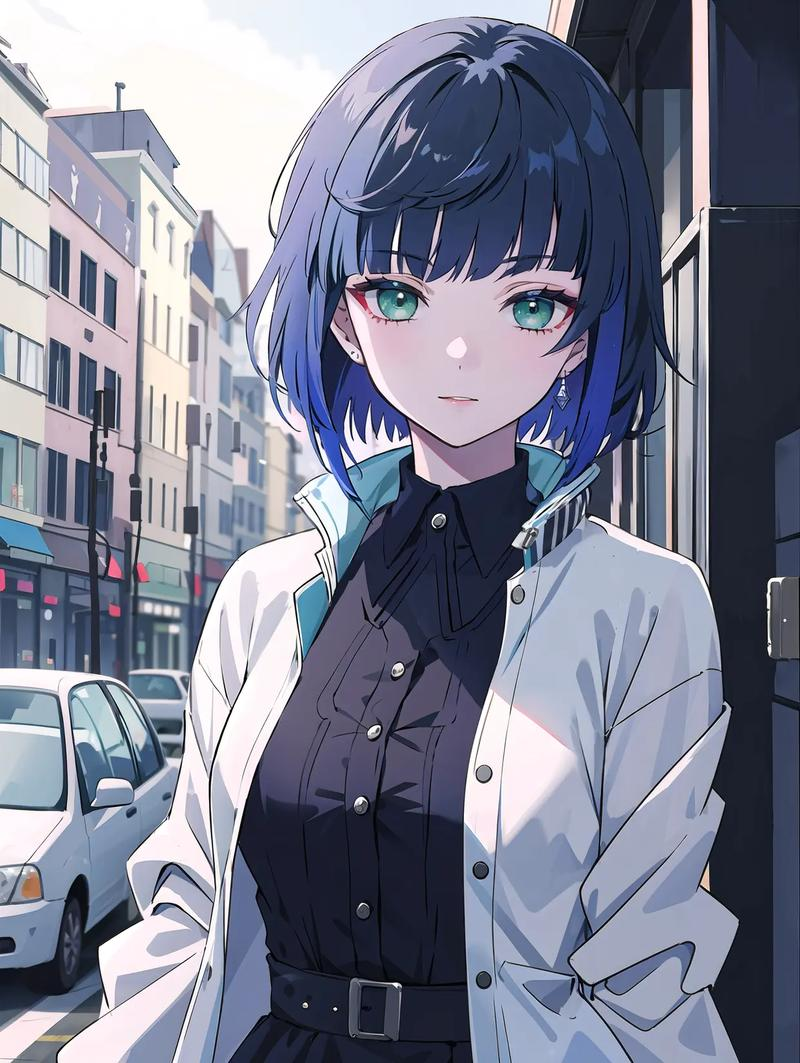夜兰: (149, 11, 743, 1063)
